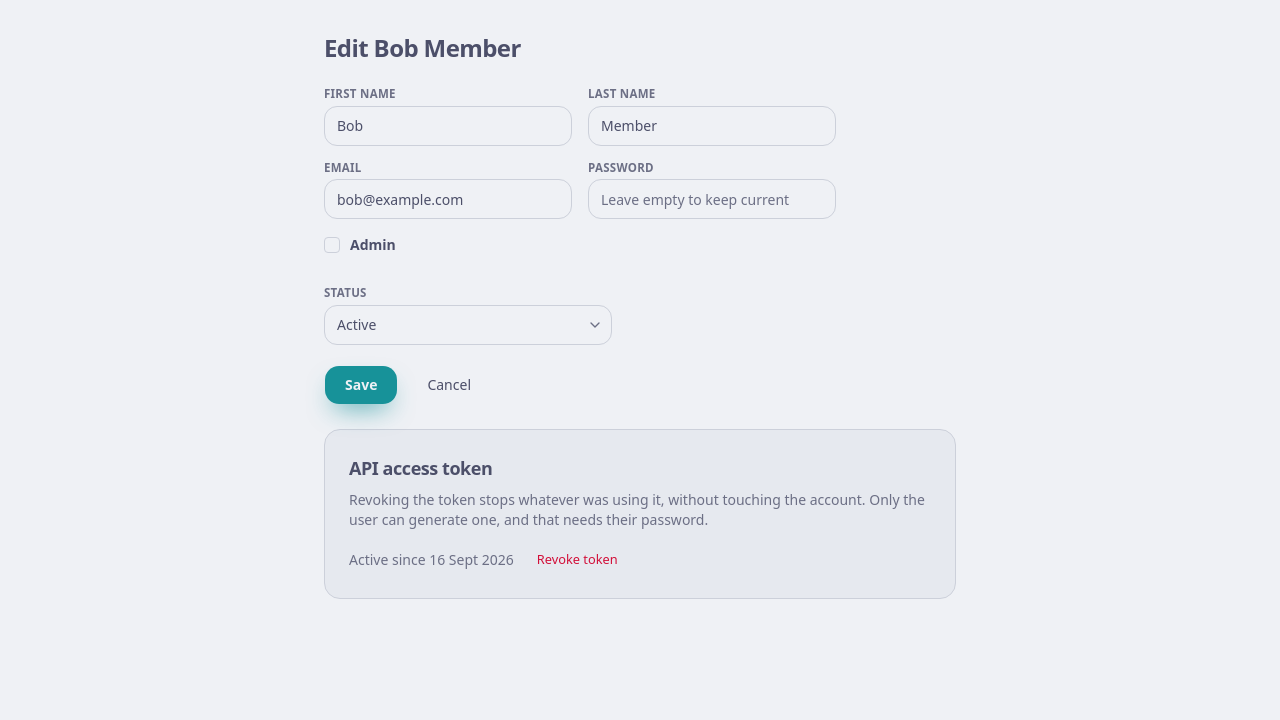
UserEdit › revokes a user access token after confirming, leaving the account alone
Expected: the text "Active since 16 Sept 2026" is shown, [349,550,514,570]
Click the button "Revoke token": (577,560) [526,546,629,574]
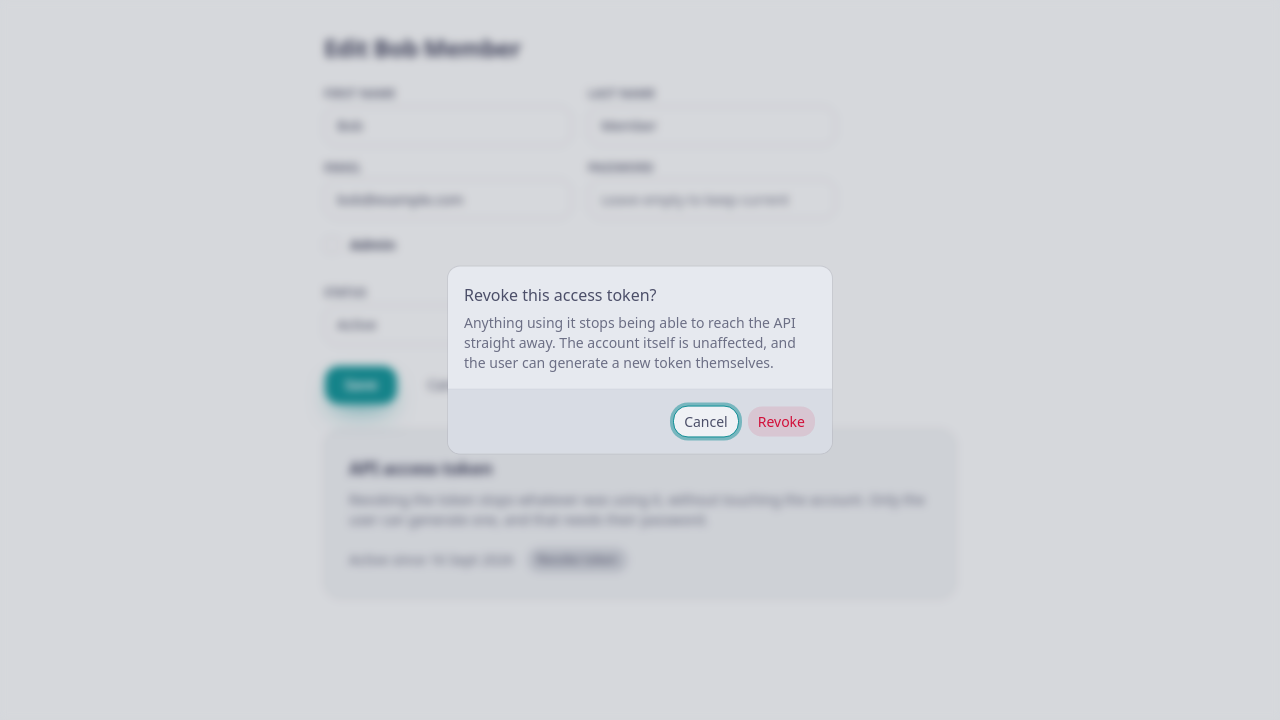
// Anchored: the trigger beside it is "Revoke token", so a loose match is ambiguous.
Click the button "Revoke": (781,422) [747,406,816,438]
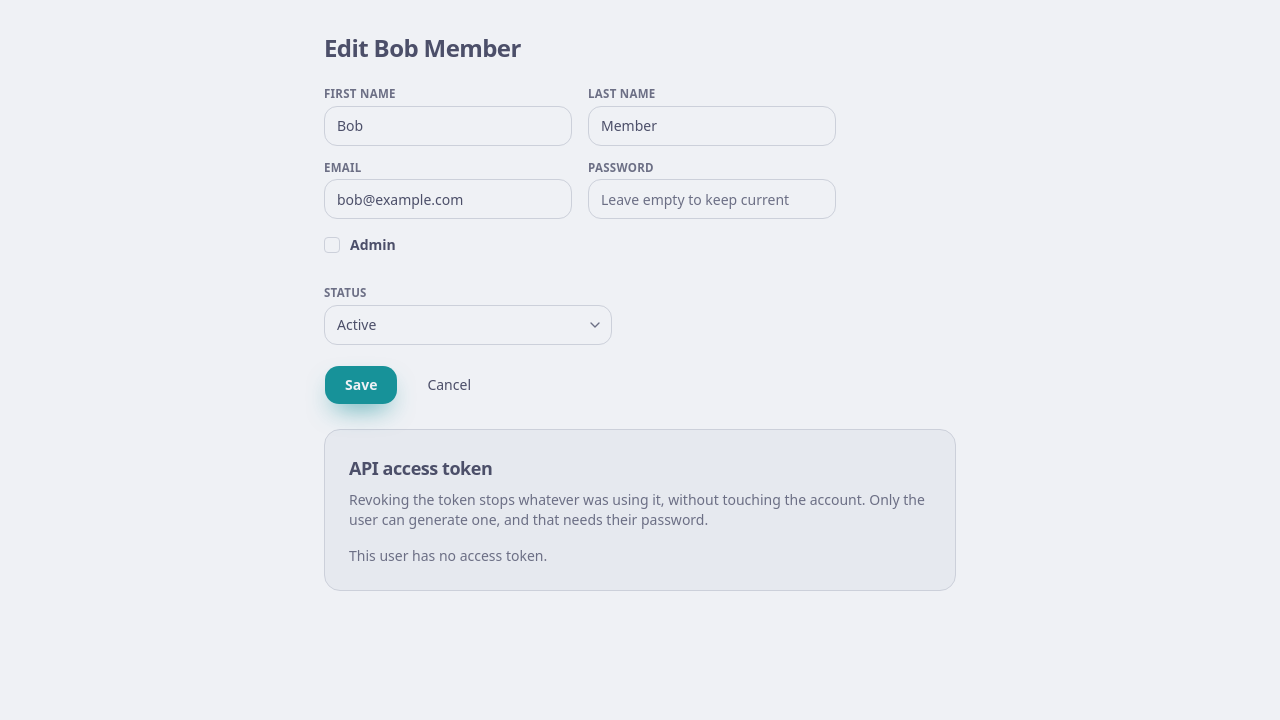
Expected: the field showing "bob@example.com" is shown, [324,179,572,219]
Result: the text "This user has no access token." is shown at [349,546,547,564]
